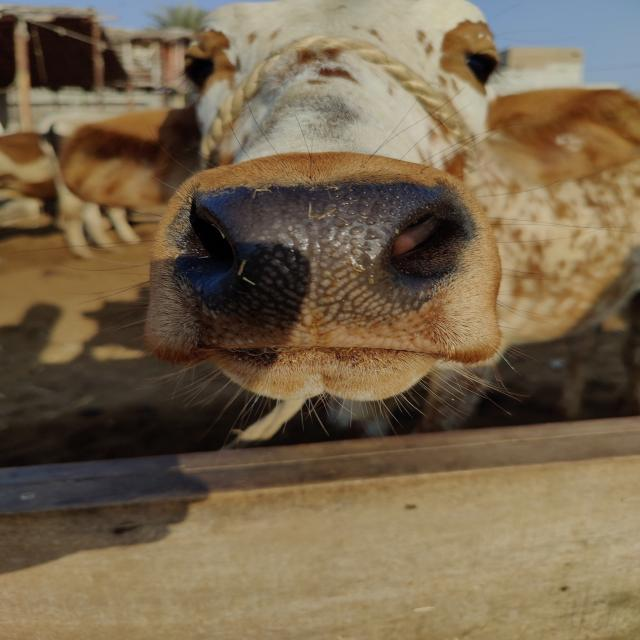muzzles: (169, 164, 475, 368)
